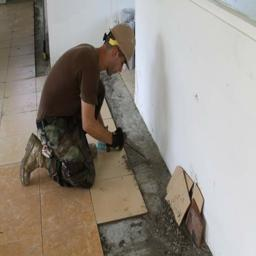hat: (104, 14, 147, 80)
no vest: (33, 34, 106, 146)
